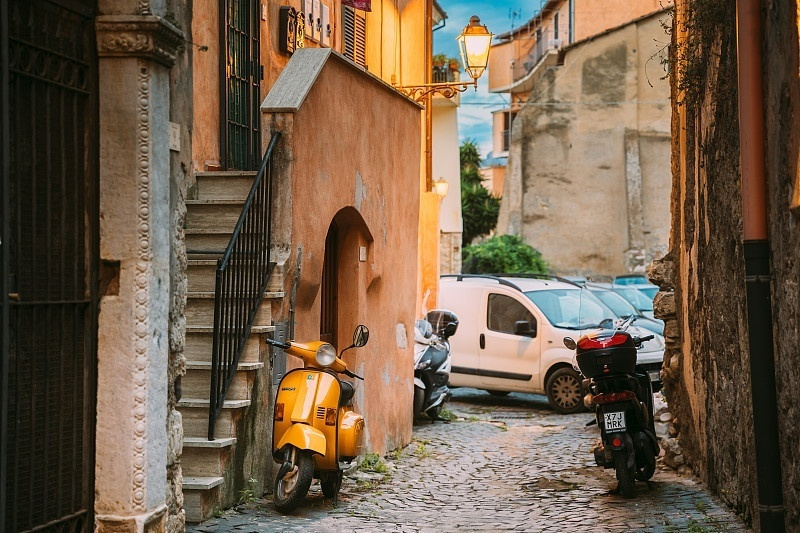non-vehicle: (264, 330, 368, 504), (575, 303, 661, 493)
